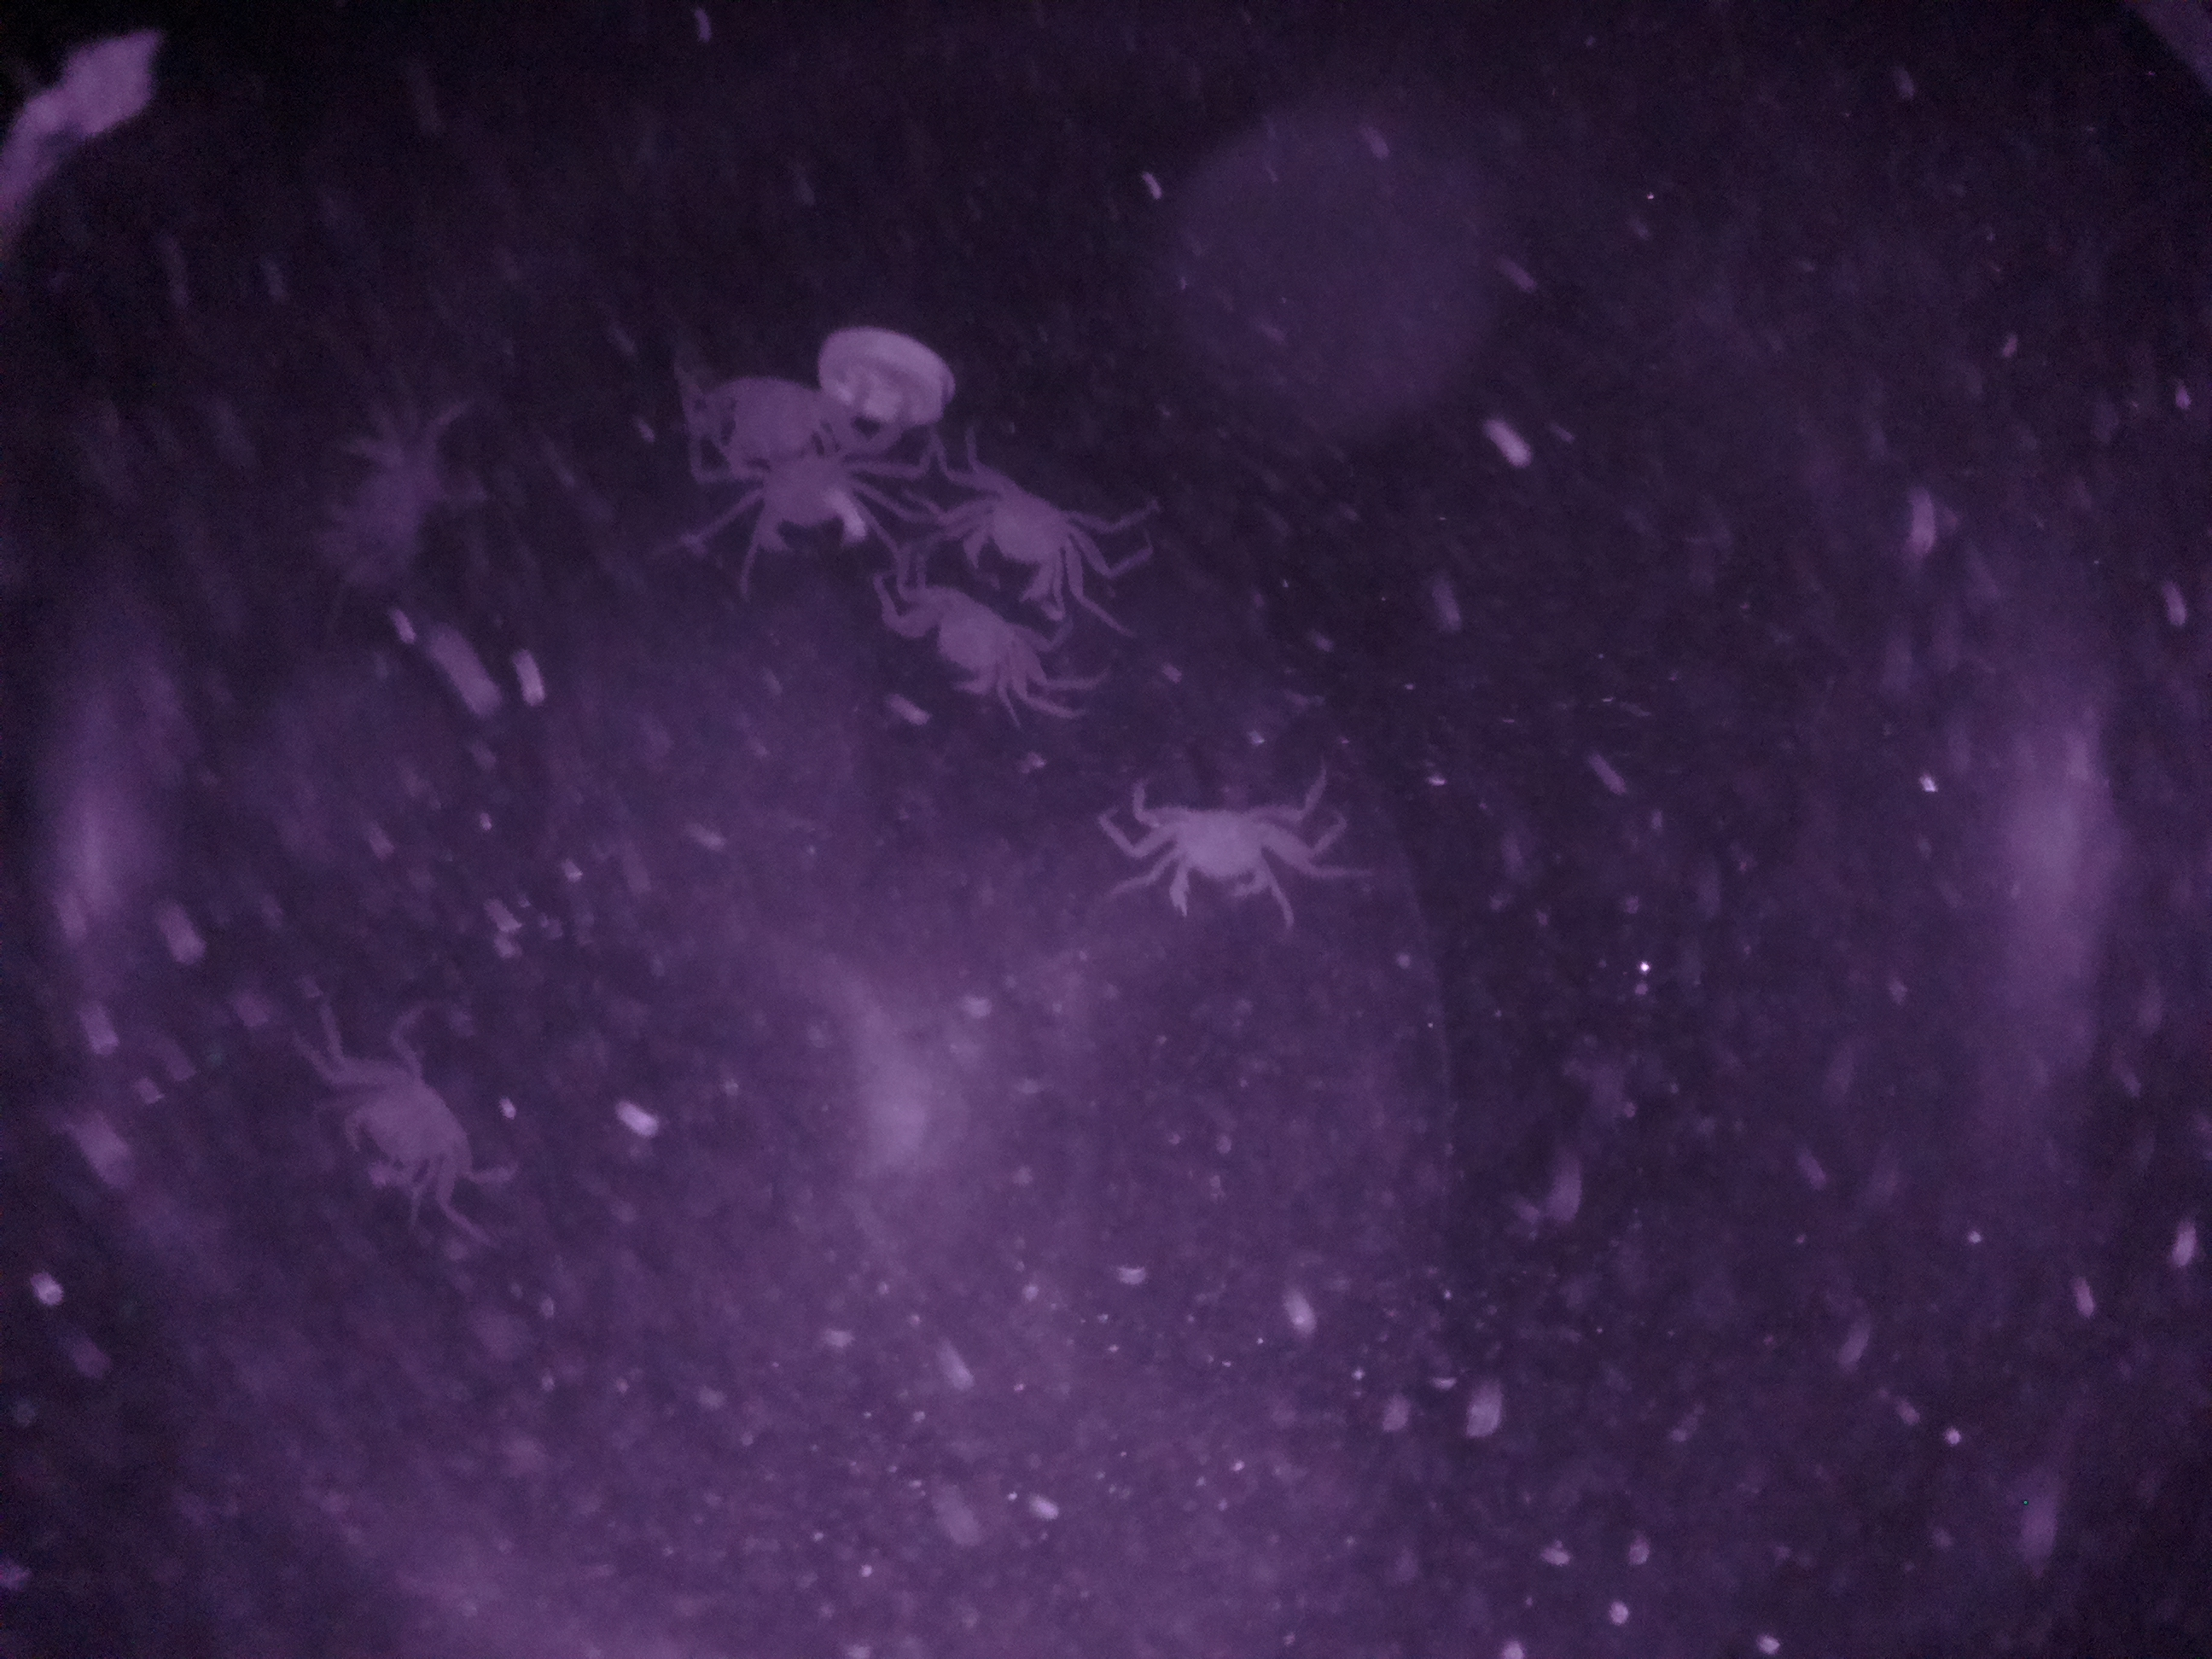Crab: (1089, 774, 1359, 931), (941, 453, 1115, 598)
